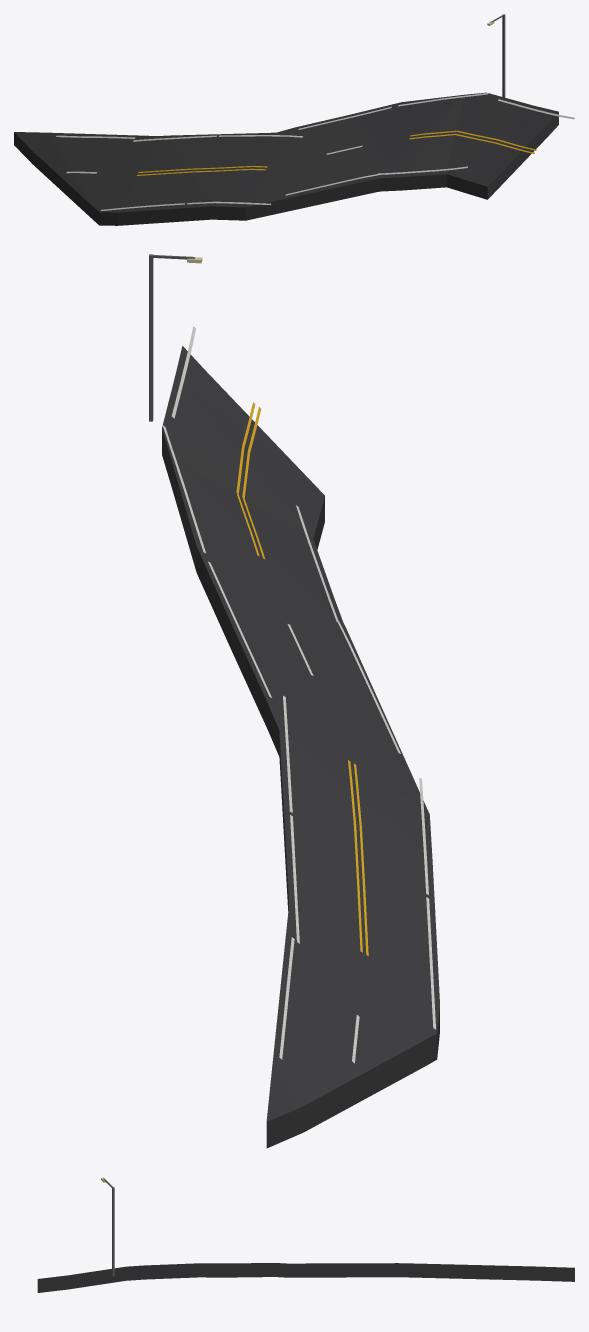
3 renders of one model, top to bottom at view 1: azimuth 30°, elevation 25°; view 2: azimuth 150°, elevation 25°; view 3: azimuth 270°, elevation 25°, orthographic. The views are drawn at different scales.
Bounding box in the file's own units: 28.34 × 21.73 × 43.12.
